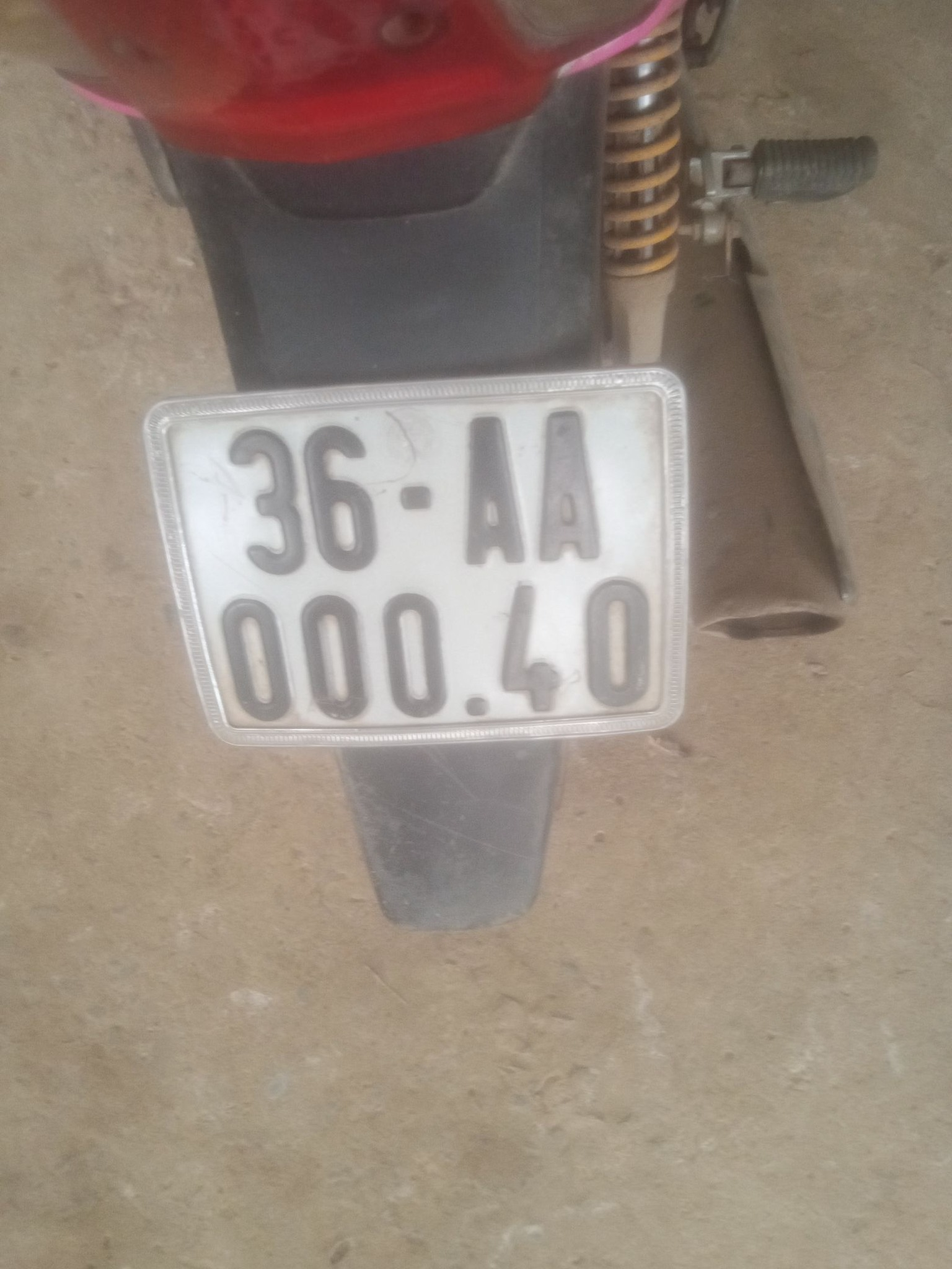bien_so: (110, 352, 730, 762)
